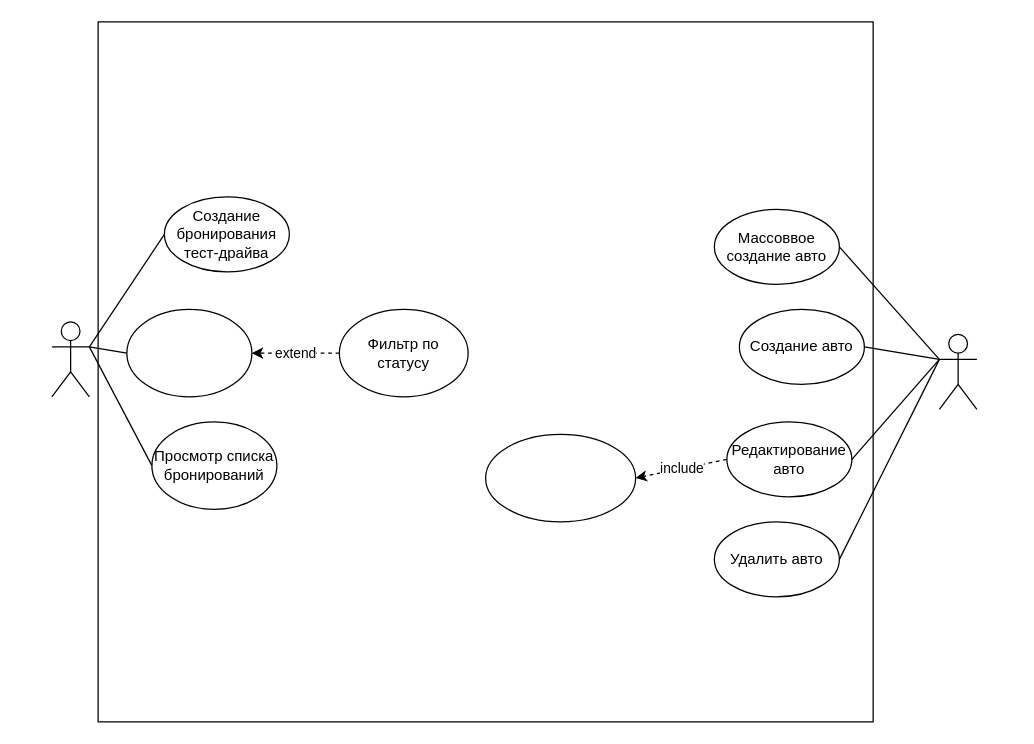
Image size: 1034x744. Some labels were removed from this diagram. Each missing label, with the centre of its shape:
"Администратор" goes at pixel 957 371.
"Пользователь" goes at pixel 70 359.
"Проверка авто в других бронированиях" goes at pixel 560 477.
"Просмотр информации об автомобиле" goes at pixel 189 352.
